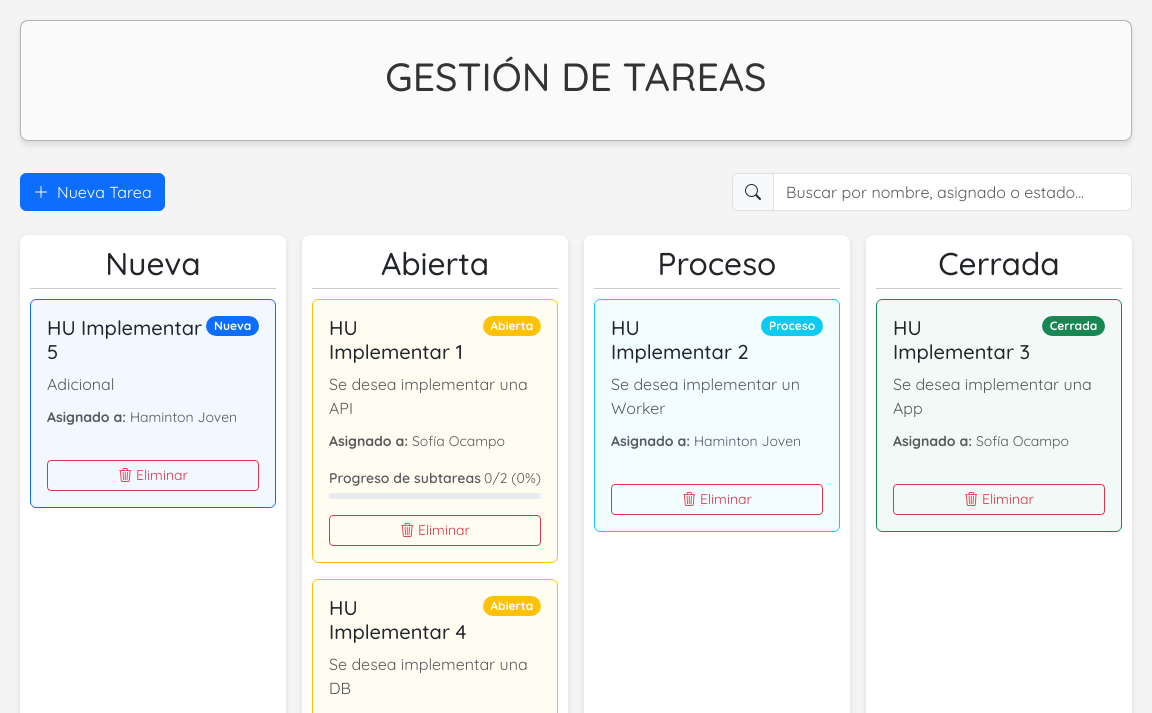
Test case: App.jsx › permite crear una nueva tarea
Click the button "Nueva Tarea": (92,192) [20,173,165,211]
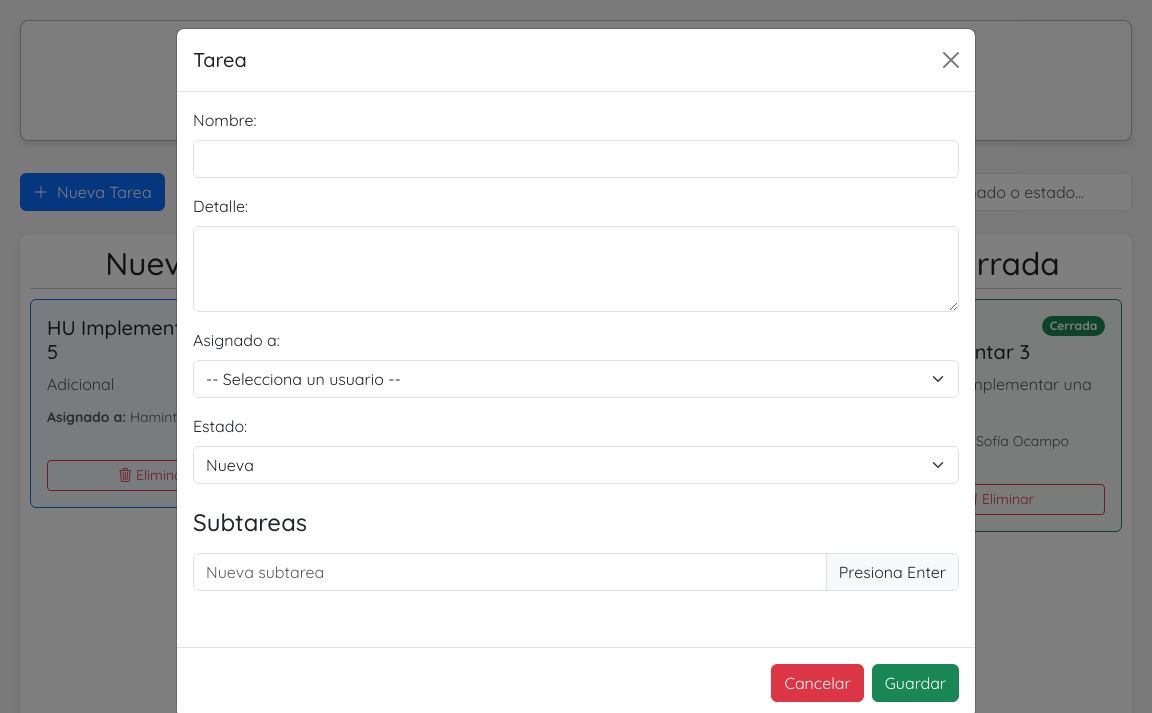
Check: the button "Guardar" is shown, box [872,664,959,702]
